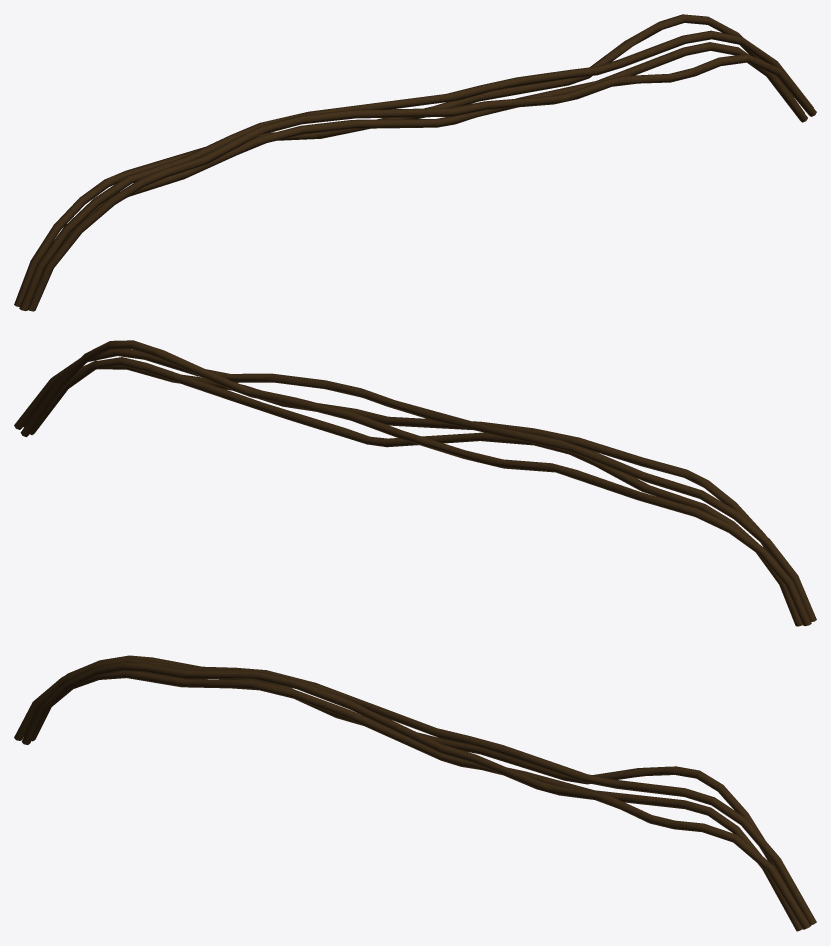
File: TreeRoot2.fbx
3 renders of one model, top to bottom at view 1: azimuth 30°, elevation 25°; view 2: azimuth 150°, elevation 25°; view 3: azimuth 330°, elevation 25°, orthographic.
Parts seen in each view (by area): view 1: TreeRoot2; view 2: TreeRoot2; view 3: TreeRoot2.
Part boxes in pixels (x1,y1,x2,y2): TreeRoot2: [14, 14, 816, 311]; TreeRoot2: [14, 340, 816, 626]; TreeRoot2: [14, 655, 816, 931].
Size of the model in its own units: 2081 by 321 by 120.
